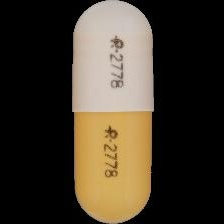63629-1842: (0, 0, 224, 224)
